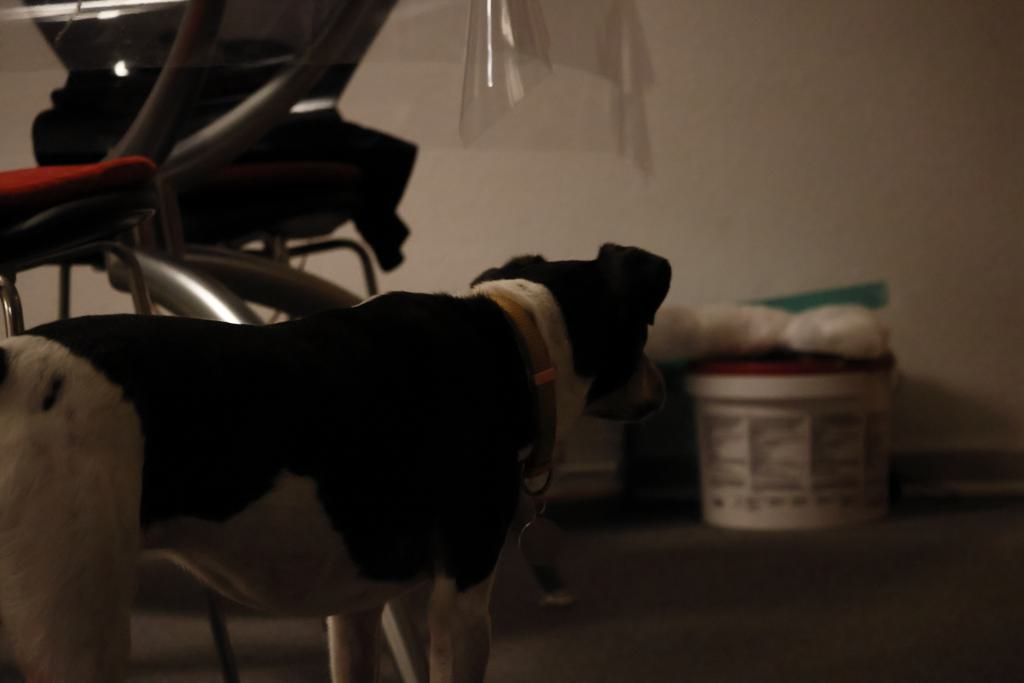Dog: (0, 218, 684, 683)
